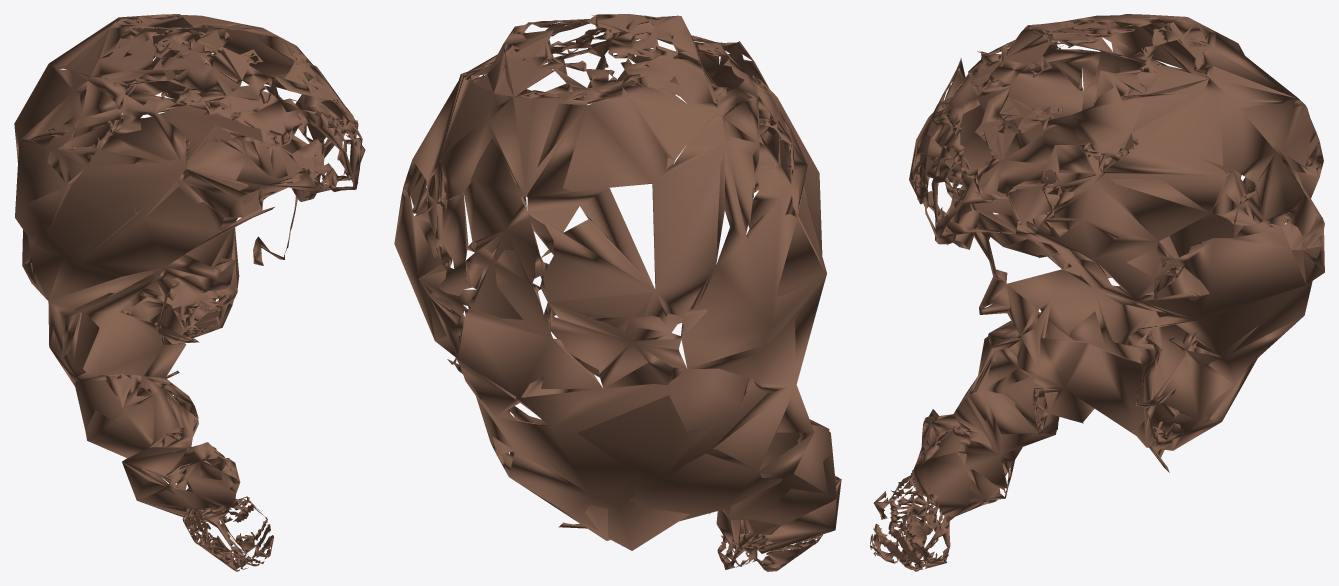
Rendered from Hair_braid_LOD2.glb.
The picture shows the model from 3 angles, left to right: view 1: azimuth 30°, elevation 25°; view 2: azimuth 150°, elevation 25°; view 3: azimuth 270°, elevation 25°; orthographic projection. The views are drawn at different scales.
Parts seen in each view (by area): view 1: Hair_braid_LOD2; view 2: Hair_braid_LOD2; view 3: Hair_braid_LOD2.
Boxes of the visible parts, x1,y1,x2,y2 form: Hair_braid_LOD2: (14, 14, 365, 571); Hair_braid_LOD2: (394, 14, 841, 571); Hair_braid_LOD2: (870, 14, 1324, 571).
Size of the model in its own units: 0.253 by 0.3842 by 0.2845.
